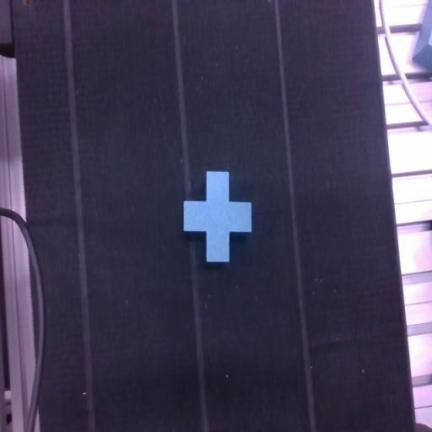cross: (184, 172, 251, 262)
